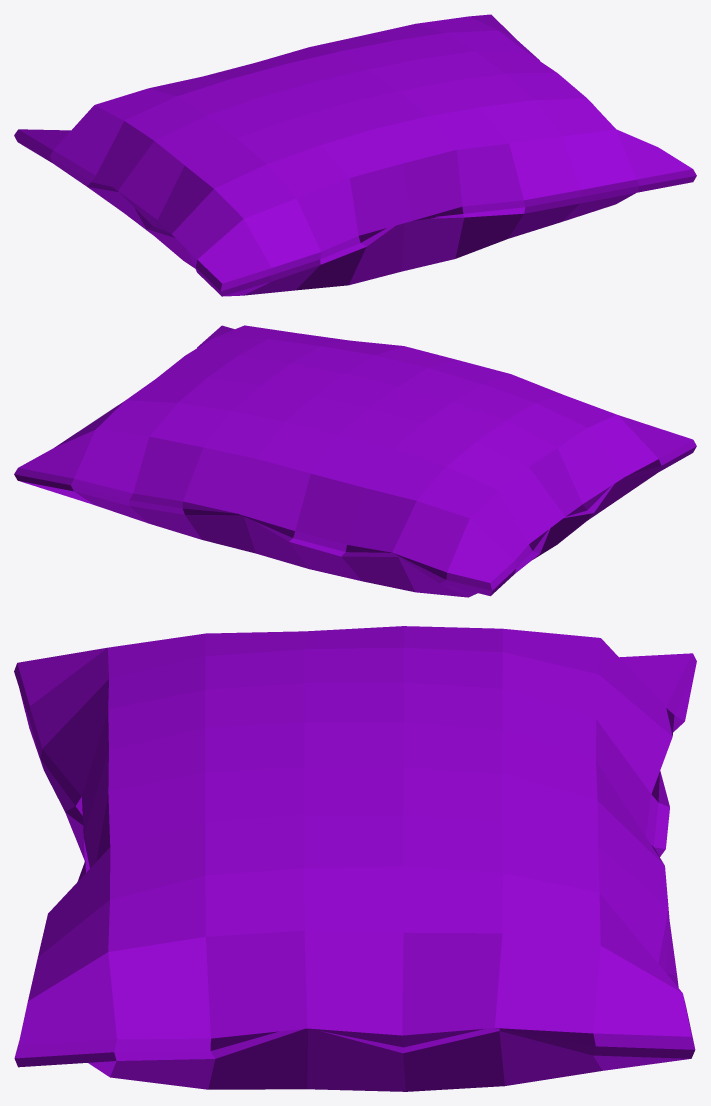
The model's file is SM_Almohada.glb.
The picture shows the model from 3 angles, top to bottom: view 1: azimuth 30°, elevation 25°; view 2: azimuth 150°, elevation 25°; view 3: azimuth 270°, elevation 25°; orthographic projection. The views are drawn at different scales.
Parts seen in each view (by area): view 1: SM_Almohada; view 2: SM_Almohada; view 3: SM_Almohada.
Part boxes in pixels (x1=…): SM_Almohada: x1=14, y1=14, x2=696, y2=296; SM_Almohada: x1=14, y1=325, x2=696, y2=597; SM_Almohada: x1=14, y1=626, x2=696, y2=1091.
Size of the model in its own units: 0.3963 by 0.1103 by 0.2948.
